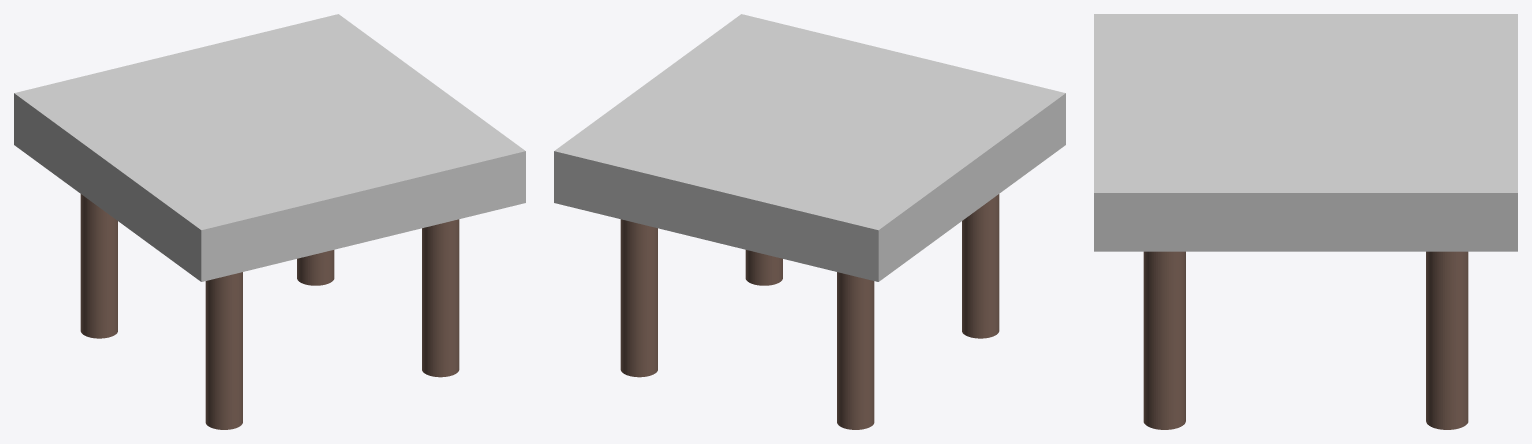
Rendered from Table.fbx.
3 renders of one model, left to right at view 1: azimuth 30°, elevation 25°; view 2: azimuth 150°, elevation 25°; view 3: azimuth 270°, elevation 25°, orthographic. The views are drawn at different scales.
Visible parts, largest first — view 1: Cube; view 2: Cube; view 3: Cube.
Boxes of the visible parts, left/top/right/bottom form: Cube: left=14, top=14, right=525, bottom=429; Cube: left=554, top=14, right=1065, bottom=429; Cube: left=1094, top=14, right=1517, bottom=429.
Bounding box in the file's own units: 300 × 201 × 300.
